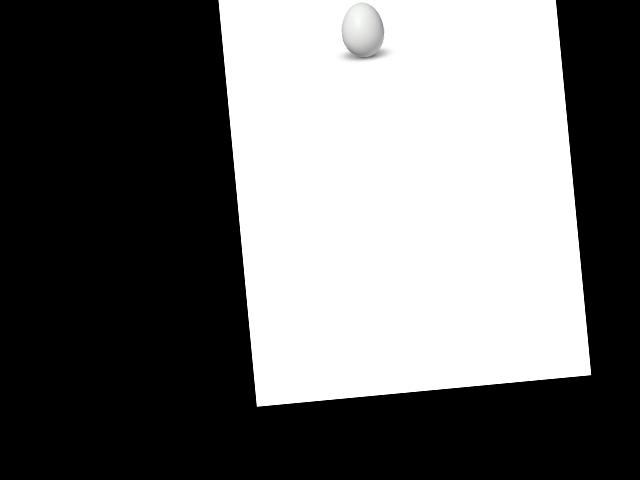egg: (338, 0, 385, 58)
